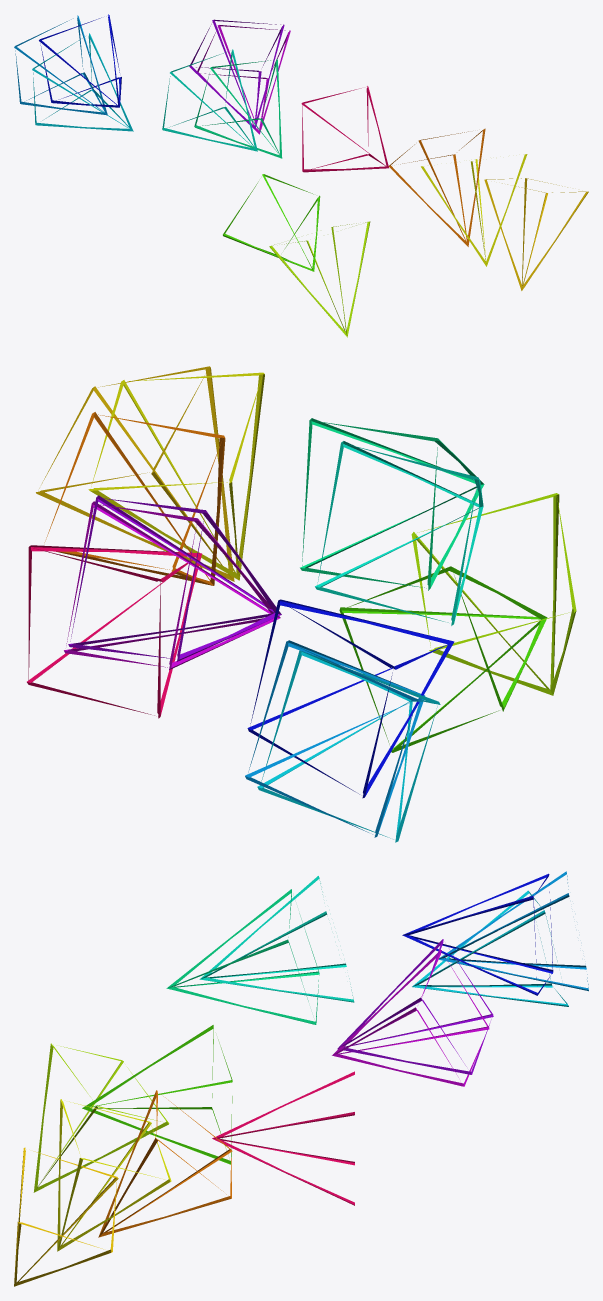
File: pitch_180_wrist_video_115.glb
The picture shows the model from 3 angles, top to bottom: view 1: azimuth 30°, elevation 25°; view 2: azimuth 150°, elevation 25°; view 3: azimuth 270°, elevation 25°; orthographic projection. The views are drawn at different scales.
Visible parts, largest first — view 1: world; view 2: world; view 3: world.
Boxes of the visible parts, box(x1,y1,x2,y2) form: world: box(14, 14, 588, 337); world: box(27, 366, 576, 842); world: box(14, 871, 588, 1286).
Size of the model in its own units: 0.9194 by 0.4982 by 0.9322.
